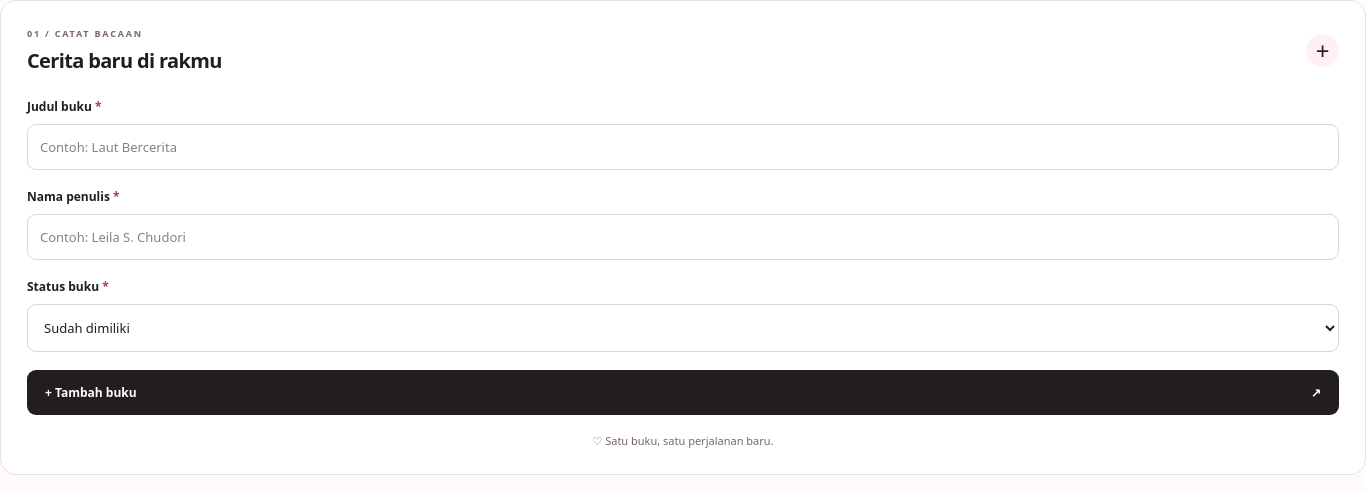
Test: mengirim judul, penulis, status lalu mengosongkan form
Type "Laut Bercerita" into the field labelled "Judul buku *". click: x=683, y=147
box: [27,124,1339,170]
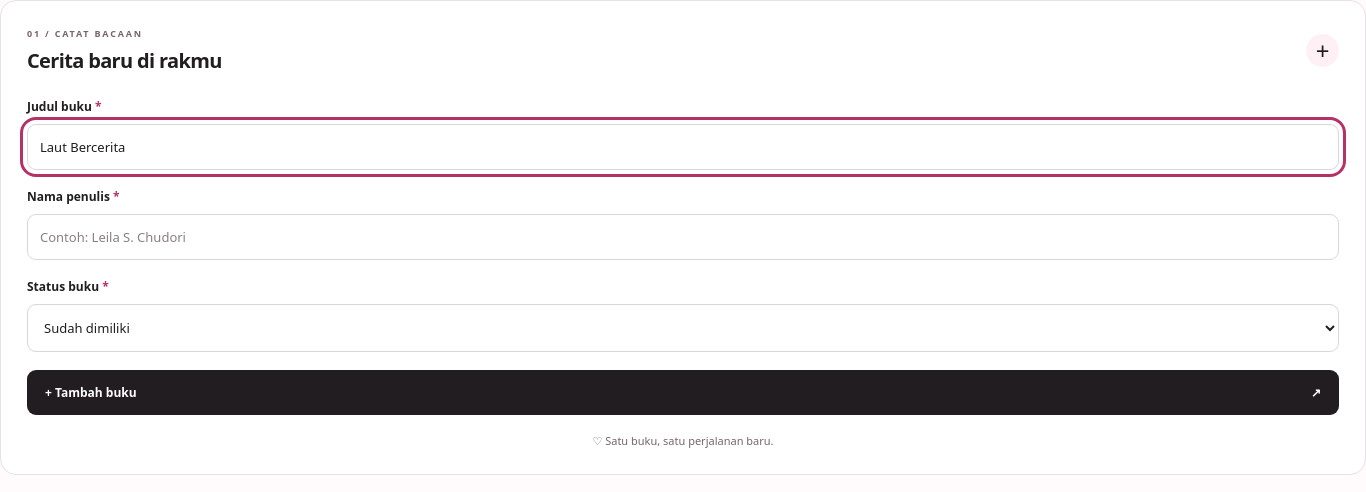
Type "Leila S. Chudori" into the field labelled "Nama penulis *". click: x=683, y=237
box: [27,214,1339,260]
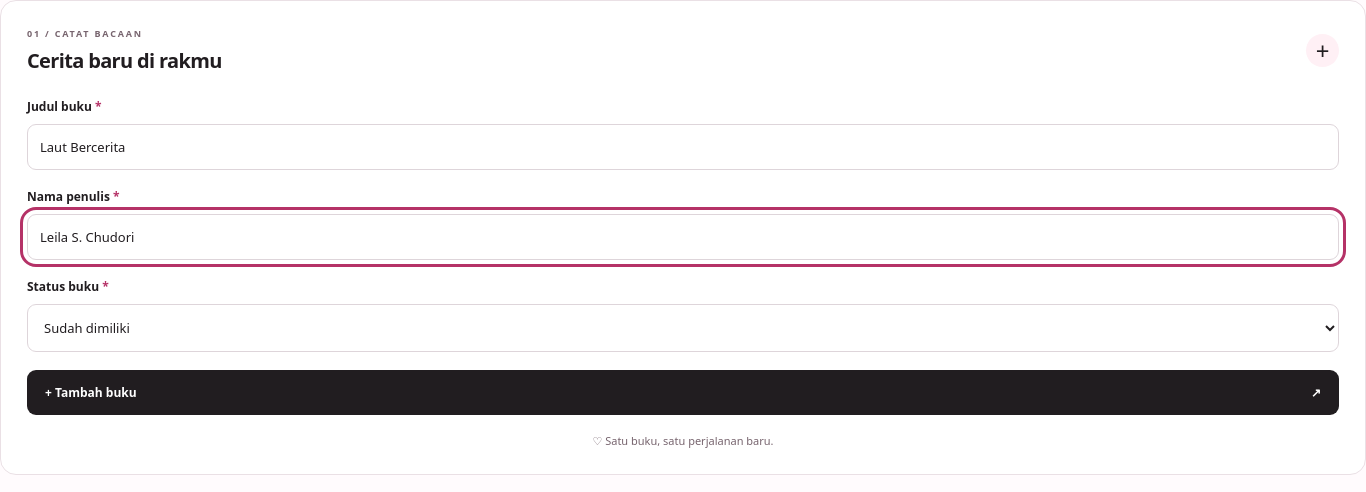
Select "Sedang dibaca" in the dropdown labelled "Status buku *". click: x=683, y=328
box: [27,304,1339,352]
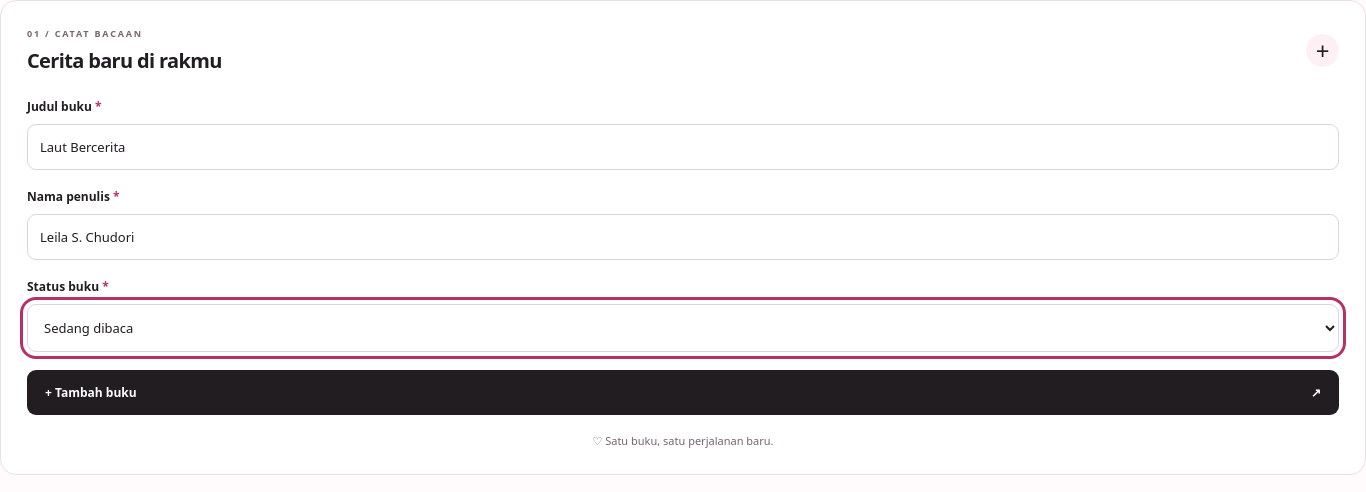
Click the button "+ Tambah buku ↗". click: x=91, y=392
box: [27,370,1339,415]
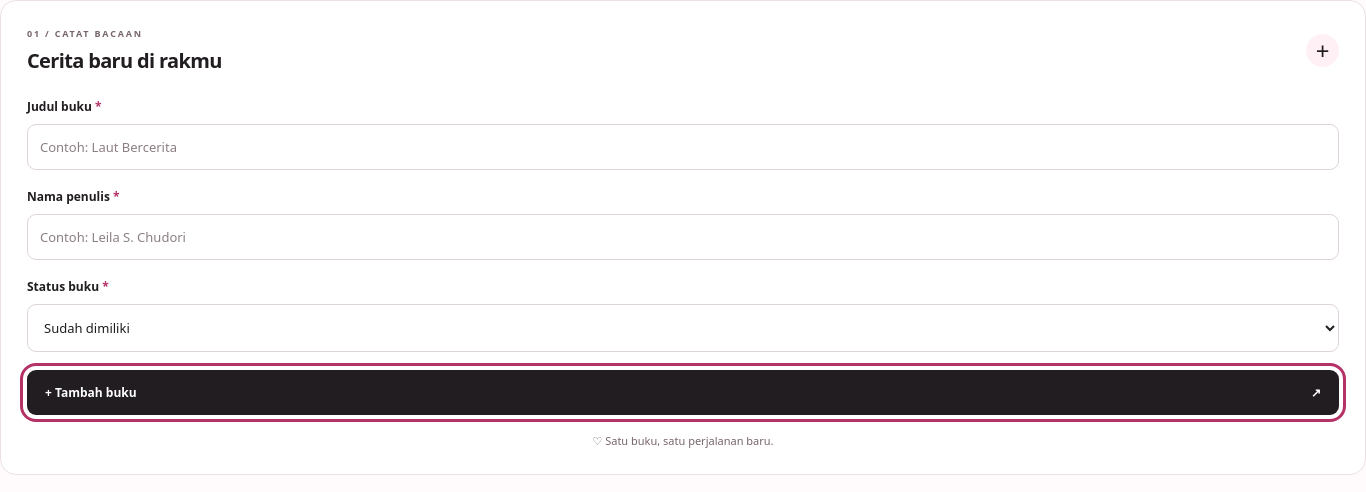
Result: the field labelled "Judul buku *" is empty at [27,124,1339,170]
